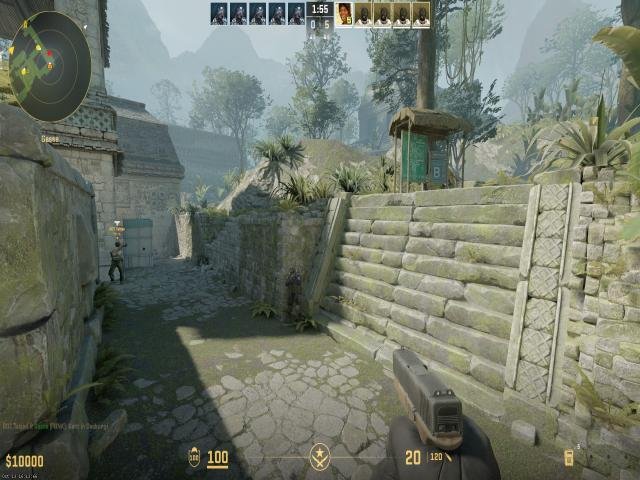CT: (281, 263, 302, 326)
CT-Head: (288, 265, 298, 279)
T: (109, 239, 125, 288)
T-Head: (113, 240, 122, 250)
